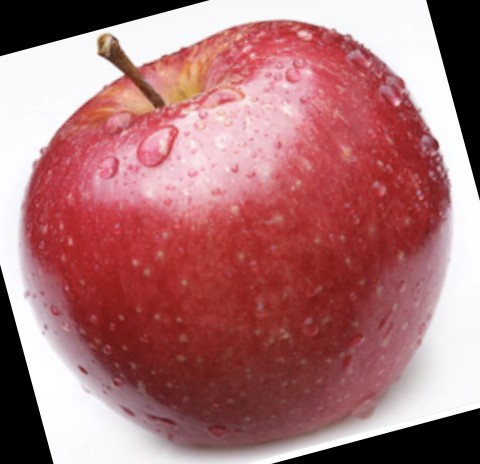fresh_apple: (24, 20, 453, 449)
